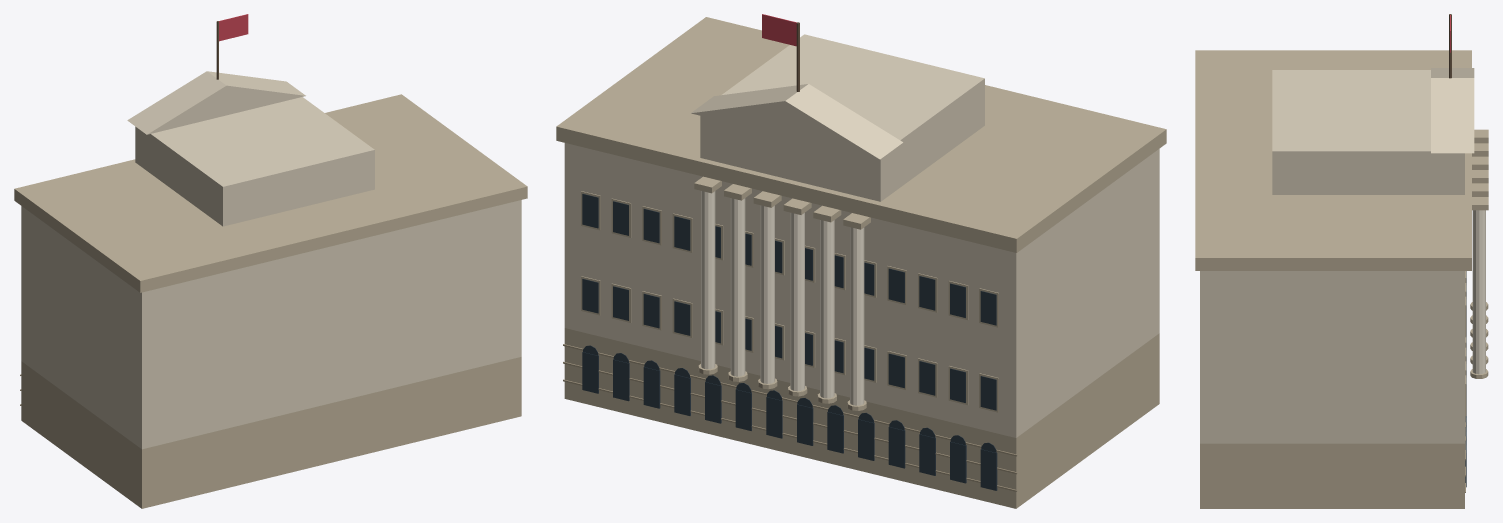
The model's file is kcl.glb.
The picture shows the model from 3 angles, left to right: view 1: azimuth 30°, elevation 25°; view 2: azimuth 150°, elevation 25°; view 3: azimuth 270°, elevation 25°; orthographic projection. The views are drawn at different scales.
Parts seen in each view (by area): view 1: kcl; view 2: kcl; view 3: kcl.
Part boxes in pixels (x1=…): kcl: x1=14, y1=14, x2=527, y2=508; kcl: x1=556, y1=14, x2=1166, y2=508; kcl: x1=1195, y1=14, x2=1488, y2=508.
Size of the model in its own units: 20.4 by 18 by 12.19.
